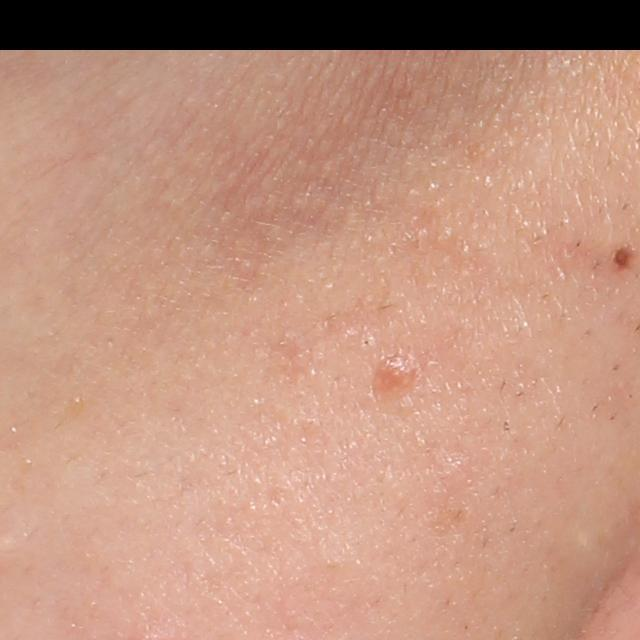comedo: (359, 334, 378, 350)
nevus: (611, 242, 631, 269)
papule: (368, 352, 425, 399)
